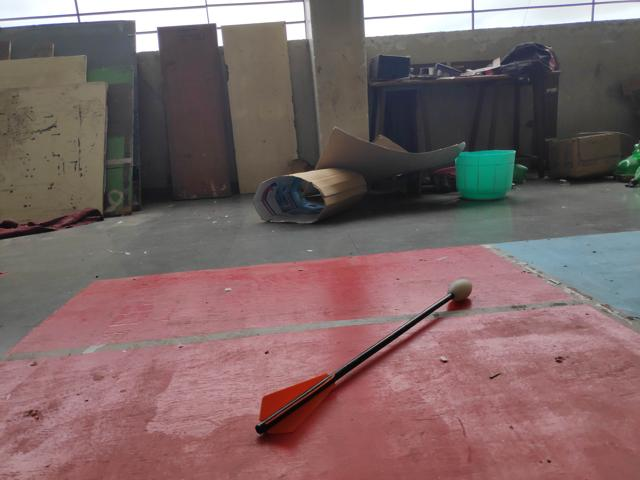Head: (443, 277, 475, 301)
